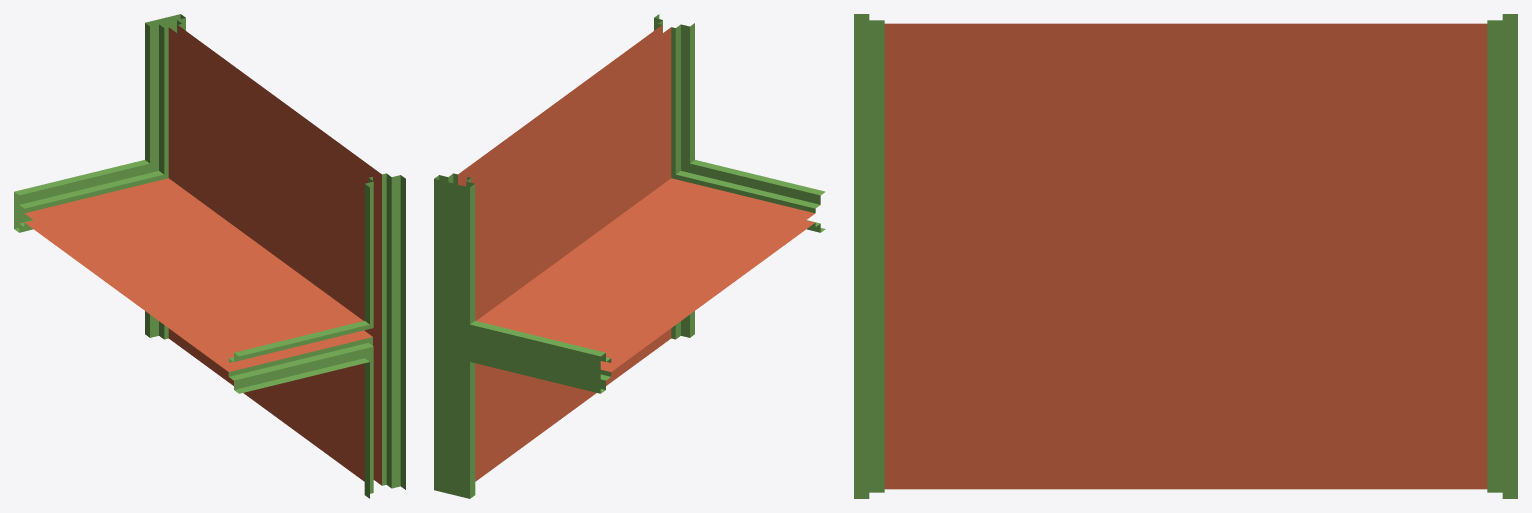
File: Env_Wall_TA.fbx
3 views of the same model, side by side, from view 1: azimuth 30°, elevation 25°; view 2: azimuth 150°, elevation 25°; view 3: azimuth 270°, elevation 25° (orthographic). The views are drawn at different scales.
Parts seen in each view (by area): view 1: Env_Wall_TA; view 2: Env_Wall_TA; view 3: Env_Wall_TA.
Part boxes in pixels (x1,y1,x2,y2): Env_Wall_TA: [14, 14, 405, 498]; Env_Wall_TA: [434, 14, 825, 498]; Env_Wall_TA: [854, 14, 1517, 498].
Bounding box in the file's own units: 1.12 × 2 × 2.62.
